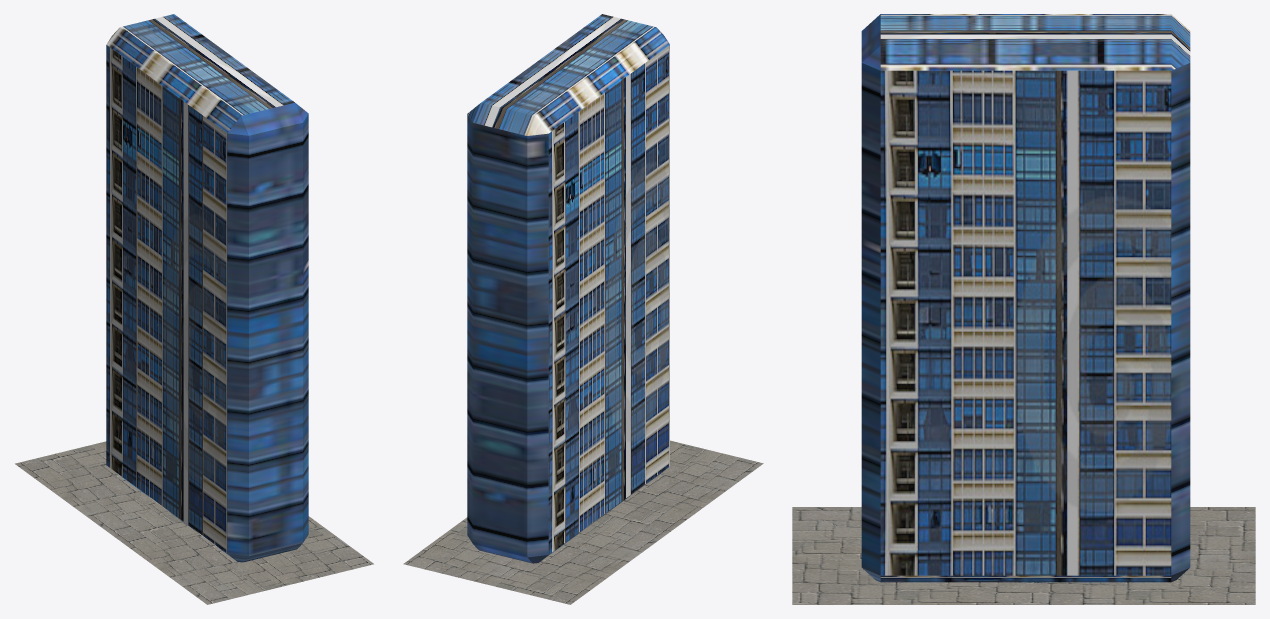
File: building4.fbx
3 renders of one model, left to right at view 1: azimuth 30°, elevation 25°; view 2: azimuth 150°, elevation 25°; view 3: azimuth 270°, elevation 25°, orthographic. The views are drawn at different scales.
Visible parts, largest first — view 1: pCube7, pasted__pasted__pasted__pasted__pPlane4, pasted__pasted__pasted__pPlane4; view 2: pCube7, pasted__pasted__pasted__pPlane4, pasted__pasted__pasted__pasted__pPlane4; view 3: pCube7, pasted__pasted__pasted__pasted__pPlane4, pasted__pasted__pasted__pPlane4.
Part boxes in pixels (x1,y1,x2,y2): pCube7: (106, 14, 308, 562); pasted__pasted__pasted__pasted__pPlane4: (111, 516, 373, 604); pasted__pasted__pasted__pPlane4: (15, 441, 176, 534); pCube7: (467, 14, 669, 563); pasted__pasted__pasted__pPlane4: (403, 517, 666, 604); pasted__pasted__pasted__pasted__pPlane4: (600, 440, 763, 533); pCube7: (861, 14, 1190, 582); pasted__pasted__pasted__pasted__pPlane4: (792, 507, 1023, 604); pasted__pasted__pasted__pPlane4: (1024, 507, 1255, 604).
Size of the model in its own units: 10 by 25.67 by 20.
Materials: 2 (2 with a texture image).
